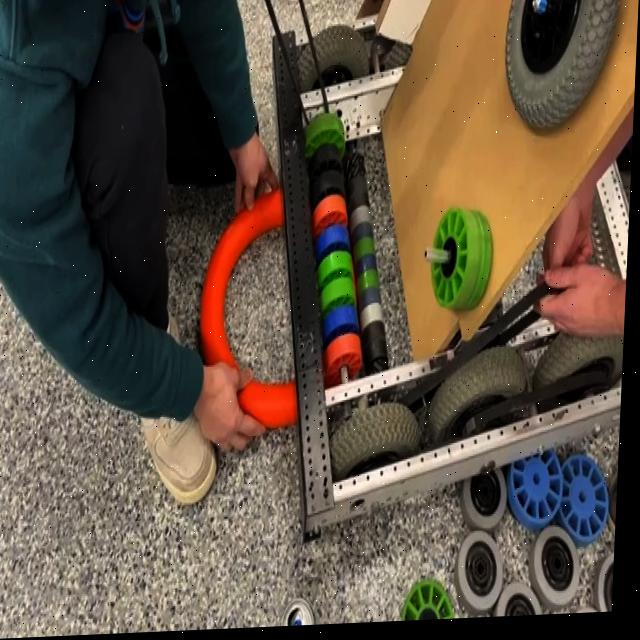note: (197, 182, 375, 439)
